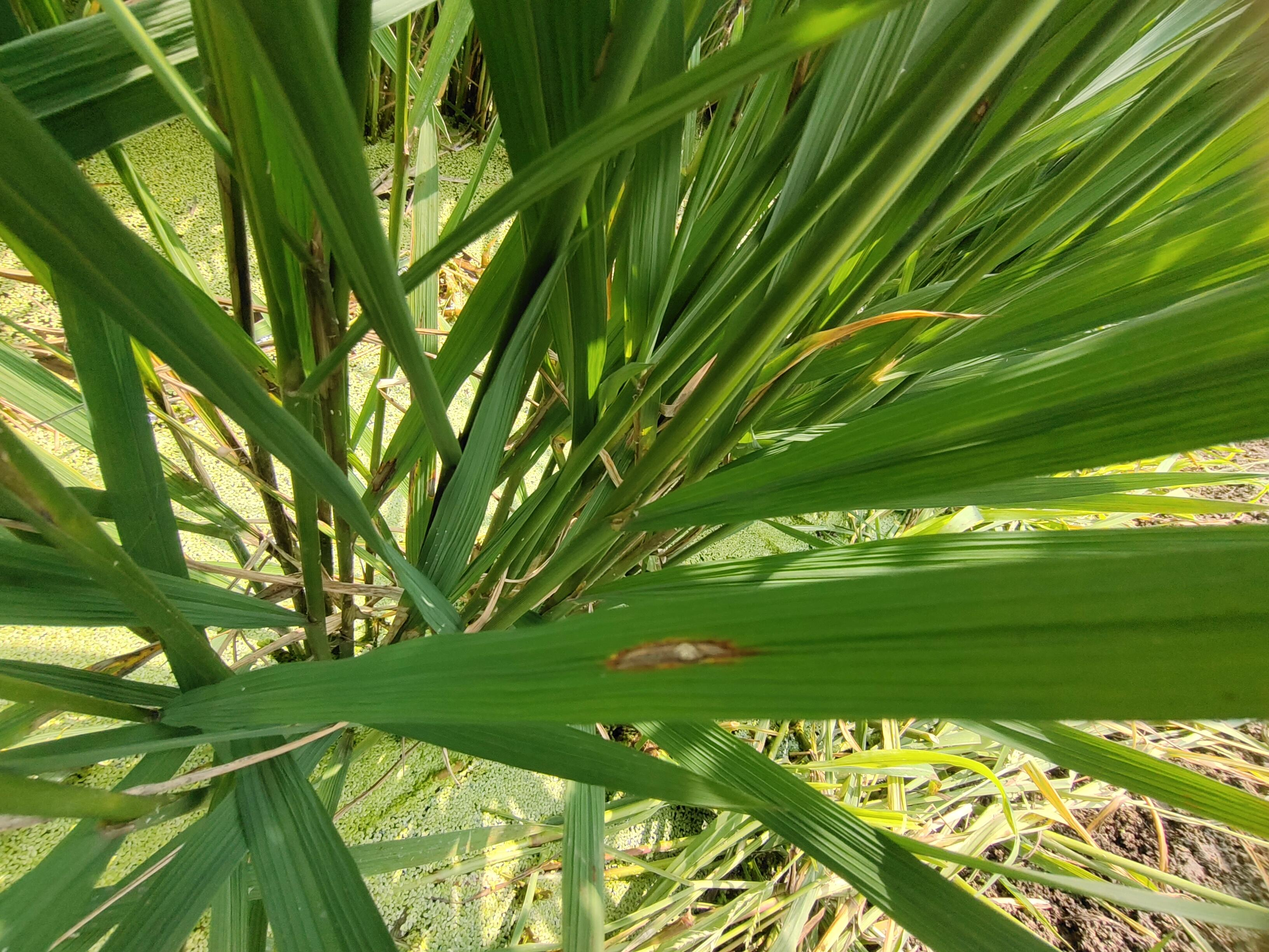LEAF: (161, 541, 1269, 730)
LEAF BLAST: (596, 635, 773, 672)
